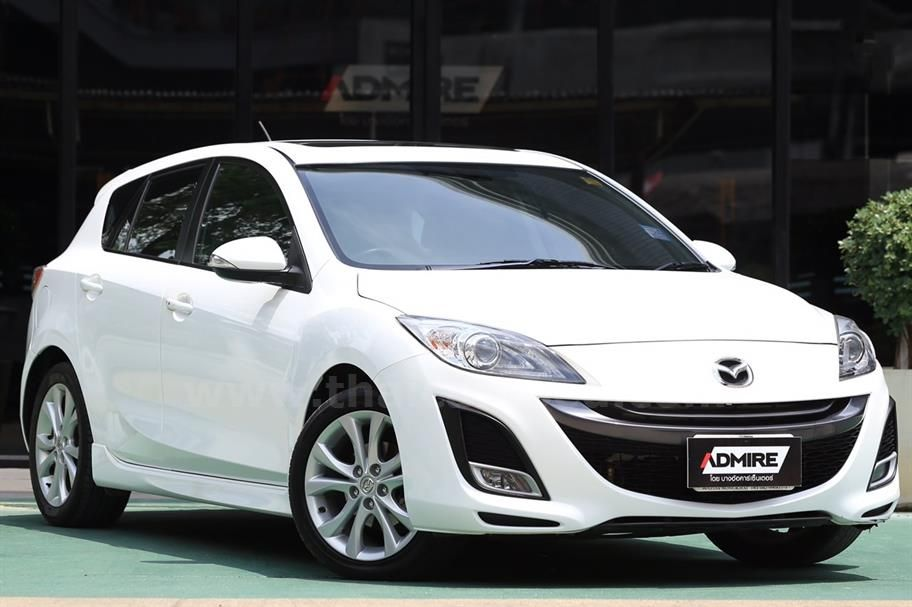sedan: (17, 138, 899, 579)
